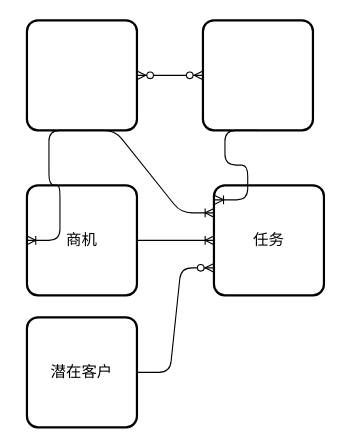
The diagram is 344 pixels wide and 447 high, and some of its shapes have lost their labels. The centre of each missing label's shape, as x and y in pixels:
"客户" belongs at [81,75].
"联系人" belongs at [257,75].
